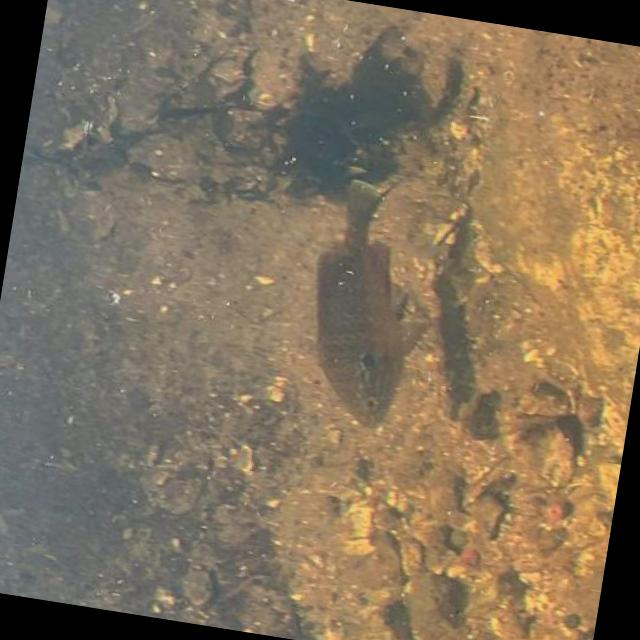Gunes Levregi: (288, 166, 457, 440)
